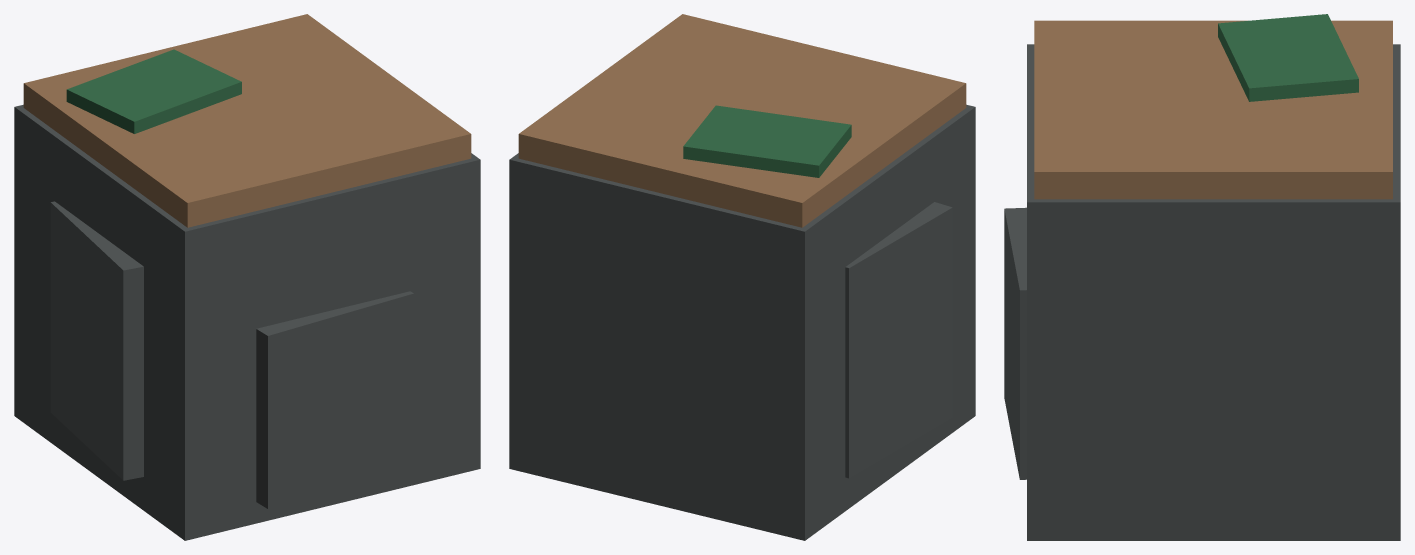
Rendered from df_cliff_corner_a.glb.
3 views of the same model, side by side, from view 1: azimuth 30°, elevation 25°; view 2: azimuth 150°, elevation 25°; view 3: azimuth 270°, elevation 25° (orthographic). The views are drawn at different scales.
Parts seen in each view (by area): view 1: mass, mud_cap, front_break, side_break, moss; view 2: mass, mud_cap, side_break, moss; view 3: mass, mud_cap, moss, front_break.
Part boxes in pixels (bbox=[...]): mass: bbox=[14, 104, 480, 540]; mud_cap: bbox=[23, 14, 471, 227]; front_break: bbox=[256, 291, 413, 508]; side_break: bbox=[50, 201, 143, 480]; moss: bbox=[66, 49, 241, 133]; mass: bbox=[509, 104, 975, 540]; mud_cap: bbox=[518, 14, 966, 227]; side_break: bbox=[845, 202, 952, 478]; moss: bbox=[683, 105, 851, 177]; mass: bbox=[1027, 44, 1400, 540]; mud_cap: bbox=[1034, 20, 1392, 199]; moss: bbox=[1218, 14, 1358, 101]; front_break: bbox=[1004, 207, 1026, 479].
Bounding box in the file's own units: 1.07 × 1.12 × 1.06.
